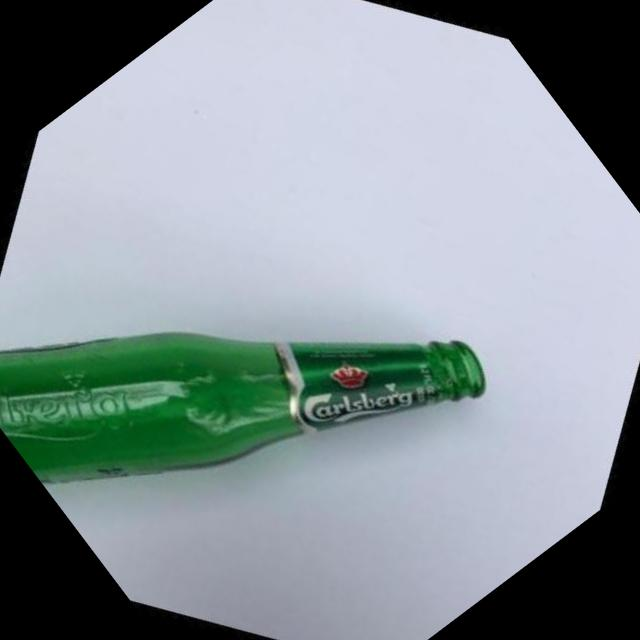BotolKaca: (0, 113, 501, 640)
